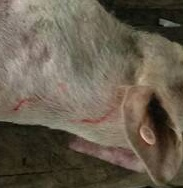text: (130, 113, 170, 154)
